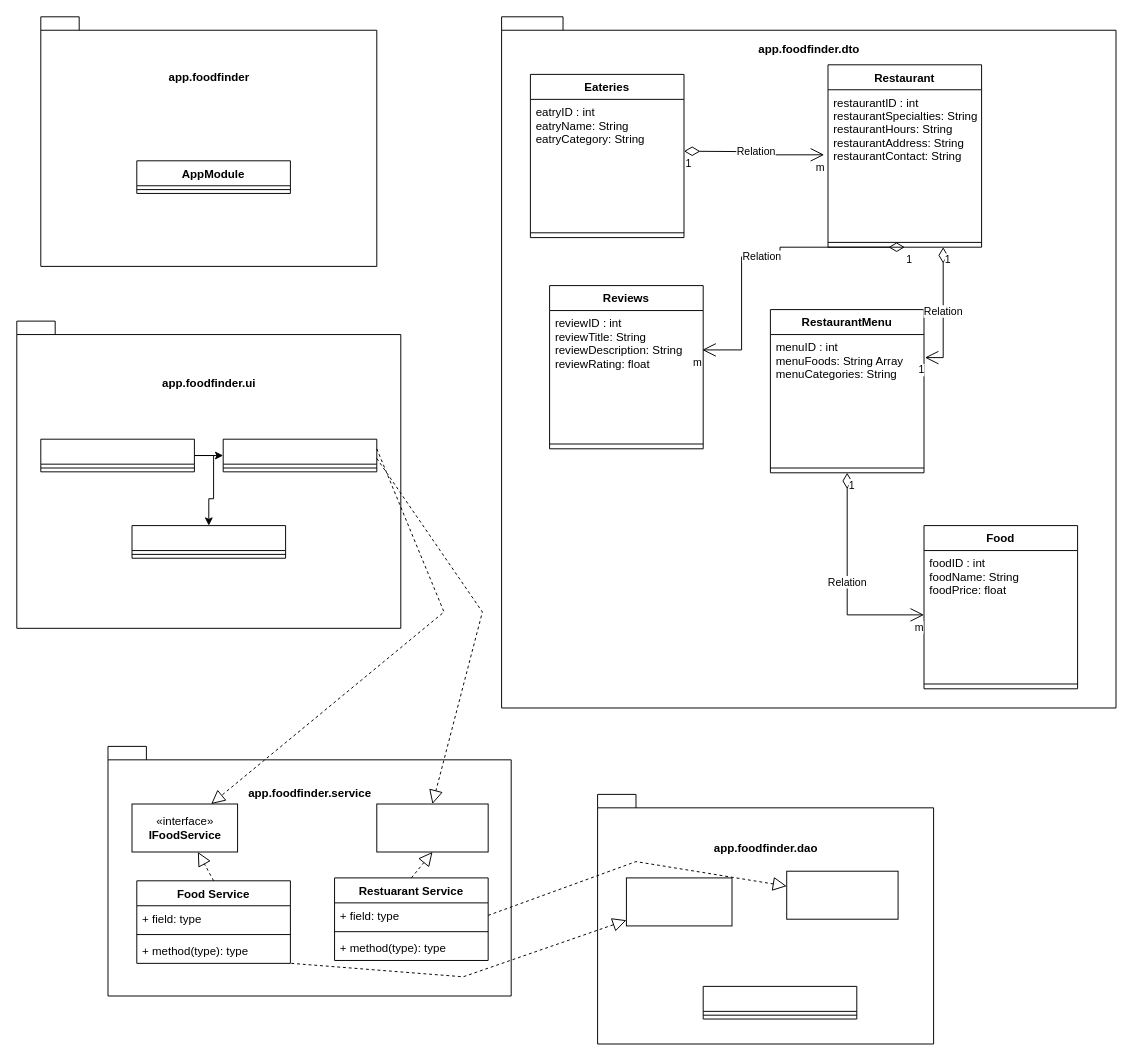
This 1133x1061 diagram has some shape labels left out. Here are the shapes that lost their labels. From the top down, the centre of each, then its label:
[117,455]: MainActivity
[299,455]: ViewModel
[208,541]: ApplicationViewModel
[432,827]: «interface» IRestuarantService
[678,901]: «interface» IFoodDAO
[842,894]: «interface» IRestuarantDAO
[779,1002]: RestaurantDatabase
